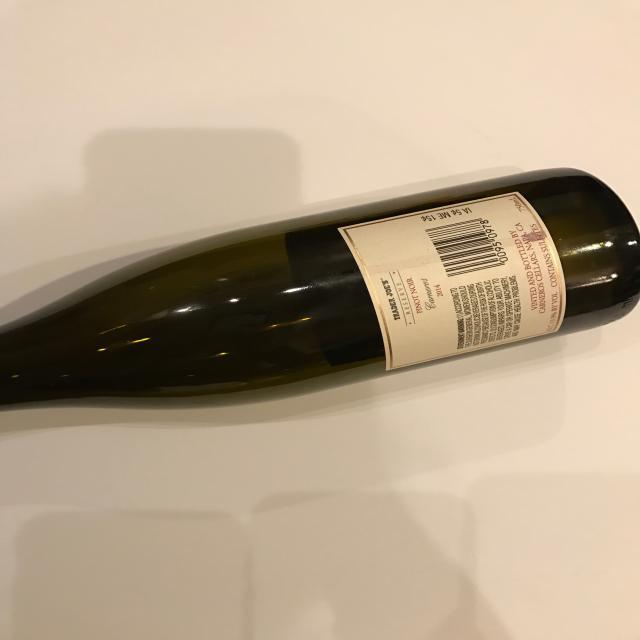glass: (3, 164, 640, 418)
